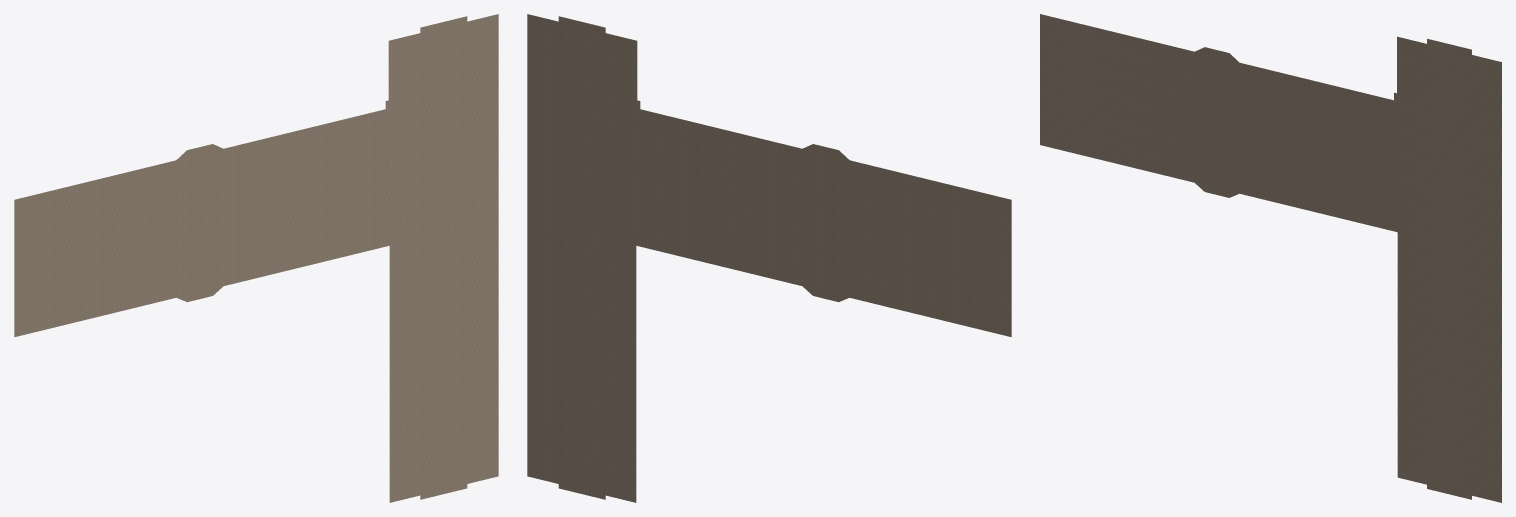
The model's file is floor_1.obj.
3 views of the same model, side by side, from view 1: azimuth 30°, elevation 25°; view 2: azimuth 150°, elevation 25°; view 3: azimuth 330°, elevation 25° (orthographic). The views are drawn at different scales.
Parts seen in each view (by area): view 1: floor_1; view 2: floor_1; view 3: floor_1.
Part boxes in pixels (box(x1,y1,x2,y2)): floor_1: box(14, 14, 498, 502); floor_1: box(527, 14, 1011, 502); floor_1: box(1040, 14, 1501, 502).
Size of the model in its own units: 232 by 216 by 0.1.
